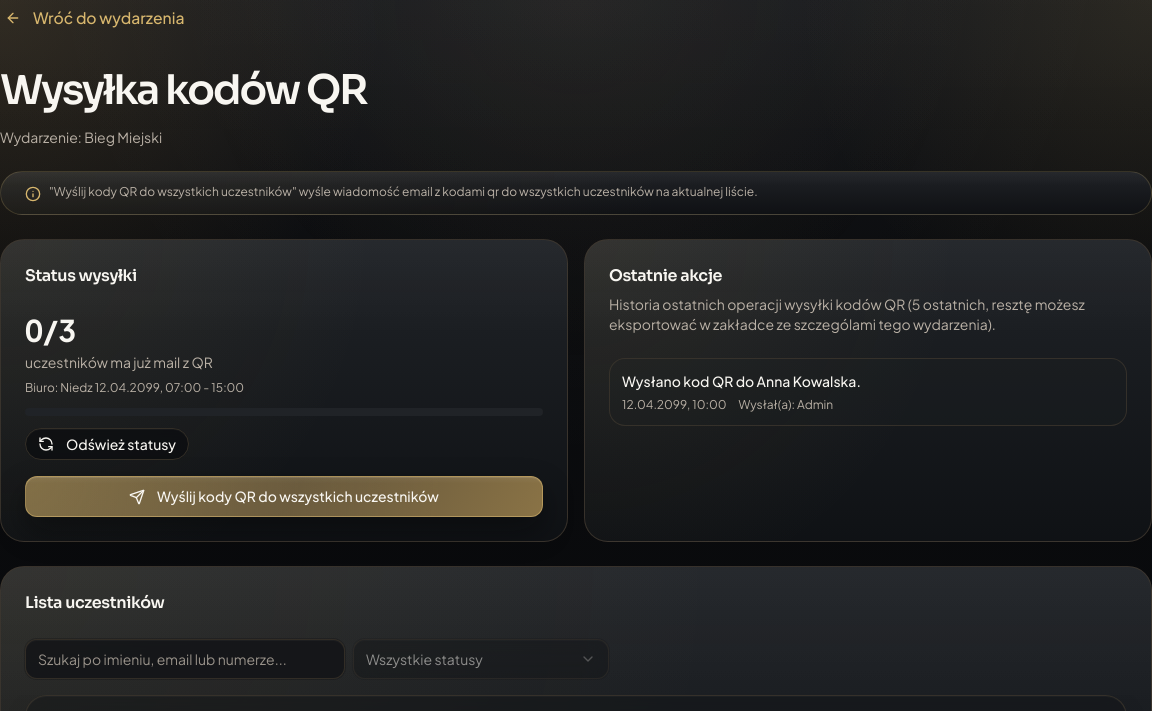
Scenario: EmailSending page › lists unpaid and unknown payment statuses separately
Click the button "Wyślij kody QR do wszystkich uczestników" at point(284, 497), box [25, 476, 543, 518]
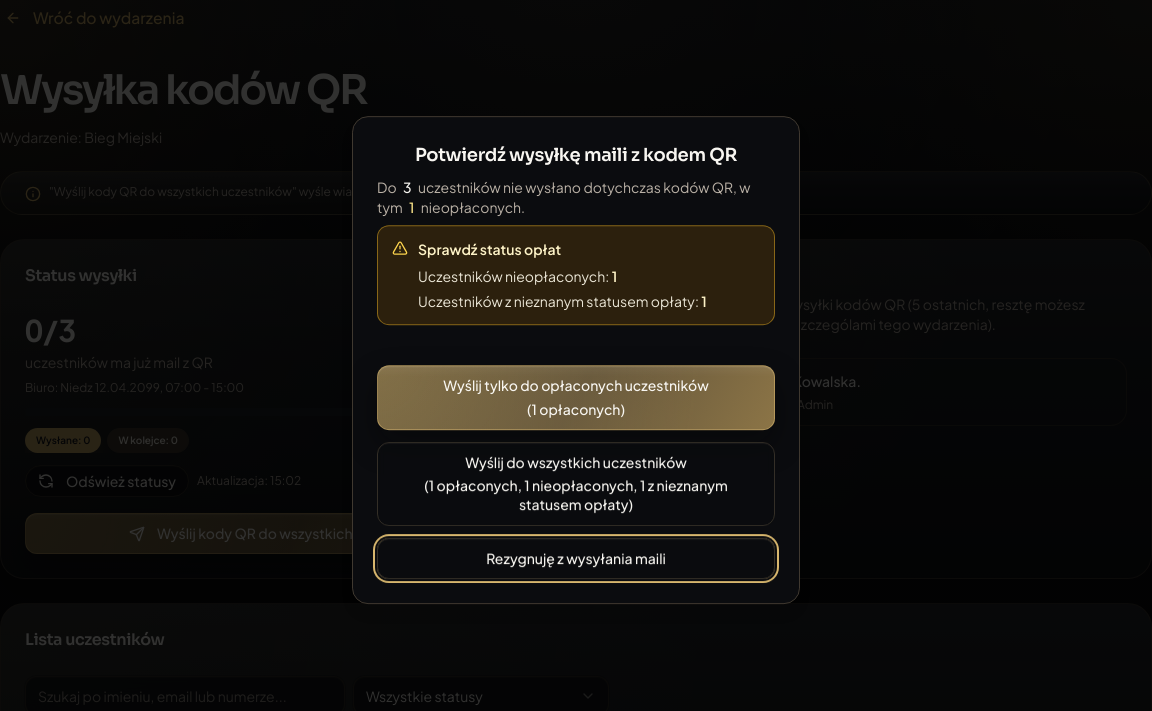
Expected: the dialog shows "Do 3 uczestników nie wysłano dotychczas kodów QR, w tym 1 nieopłaconych.", [352, 116, 800, 604]
Expected: the dialog shows "Uczestników nieopłaconych: 1", [352, 116, 800, 604]
Expected: the dialog shows "Uczestników z nieznanym statusem opłaty: 1", [352, 116, 800, 604]
